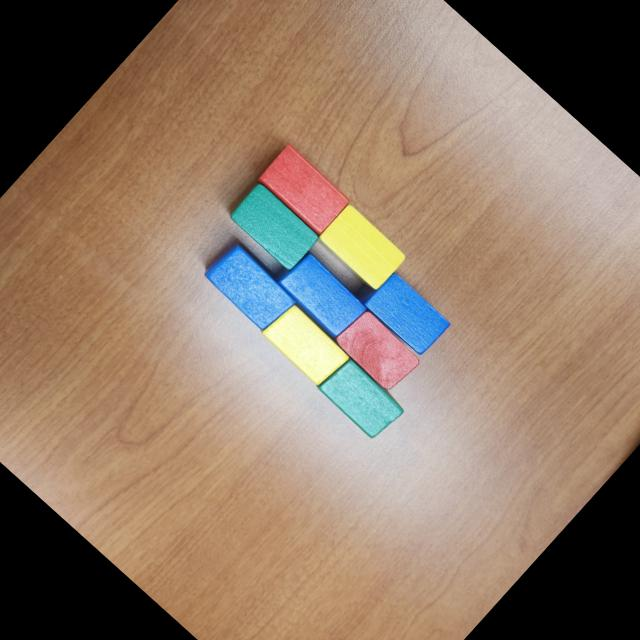blue: (198, 236, 302, 336), (266, 242, 368, 342), (362, 270, 452, 358)
green: (226, 181, 322, 274), (316, 356, 408, 444)
red: (254, 142, 352, 238), (331, 306, 423, 395)
yellow: (316, 202, 407, 292), (259, 301, 350, 389)
